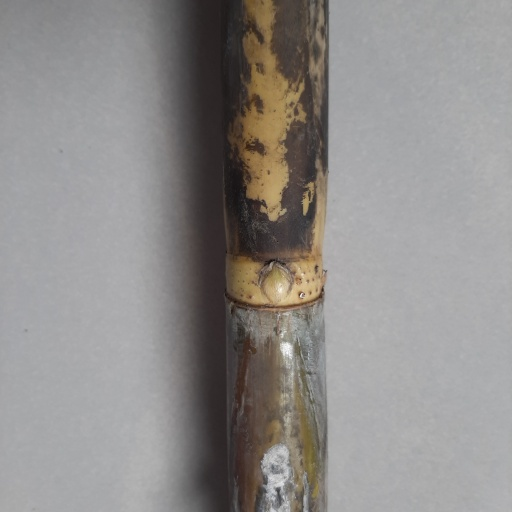Bud: (257, 259, 294, 306)
